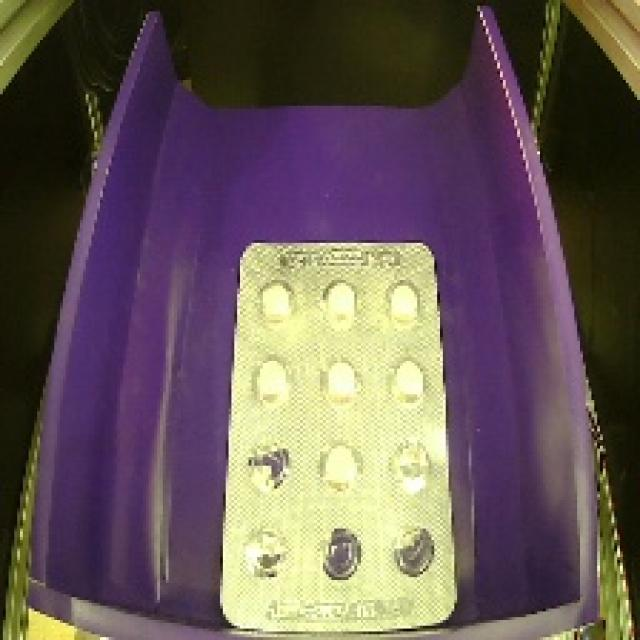med_plate: (211, 227, 469, 640)
